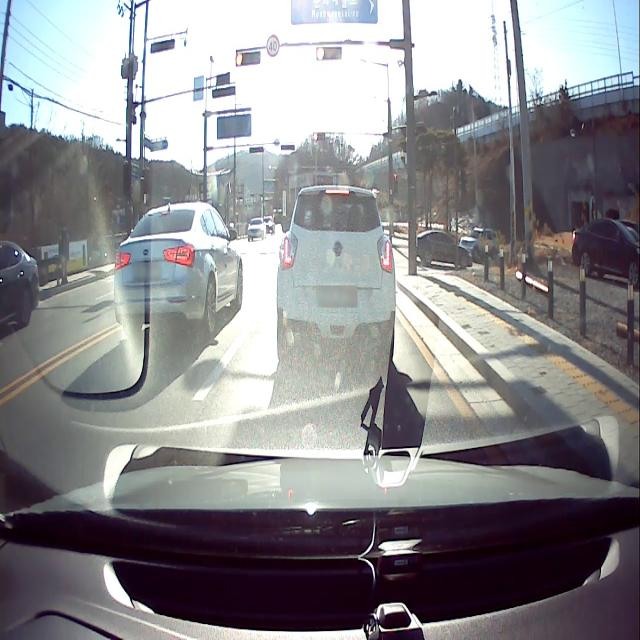Red Light: (316, 45, 326, 62), (234, 50, 243, 67), (314, 133, 318, 141)
